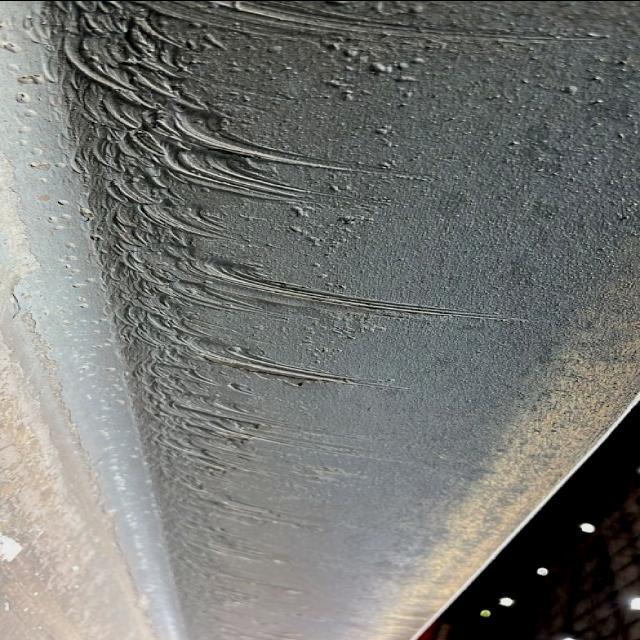defect: (53, 0, 515, 552)
